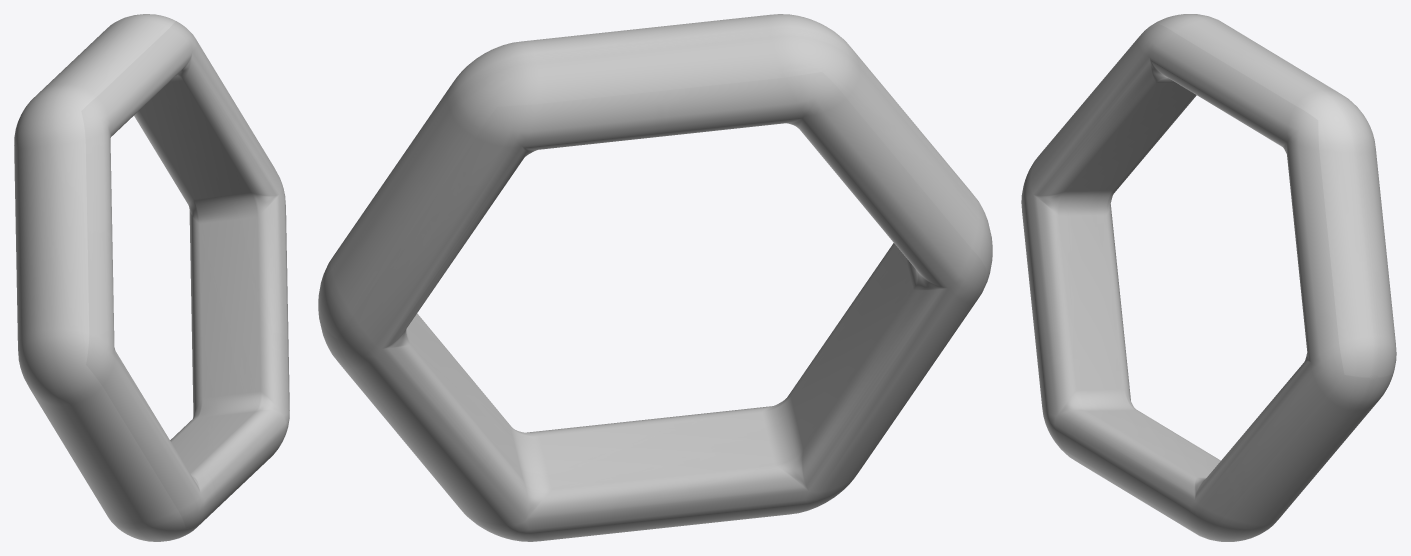
The model's file is NuovoSitoEsagonoMenuSimXDemo.gltf.
The picture shows the model from 3 angles, left to right: view 1: azimuth 30°, elevation 25°; view 2: azimuth 150°, elevation 25°; view 3: azimuth 270°, elevation 25°; orthographic projection. The views are drawn at different scales.
Visible parts, largest first — view 1: Easgono Menu Sim-X 04 - Demo; view 2: Easgono Menu Sim-X 04 - Demo; view 3: Easgono Menu Sim-X 04 - Demo.
Boxes of the visible parts, x1,y1,x2,y2 form: Easgono Menu Sim-X 04 - Demo: (14, 14, 289, 541); Easgono Menu Sim-X 04 - Demo: (318, 14, 992, 541); Easgono Menu Sim-X 04 - Demo: (1021, 14, 1396, 541).
Bounding box in the file's own units: 1.27 × 1.37 × 1.08.
1 material, 1 textured.
